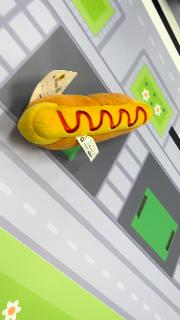hotdog: (17, 92, 153, 152)
